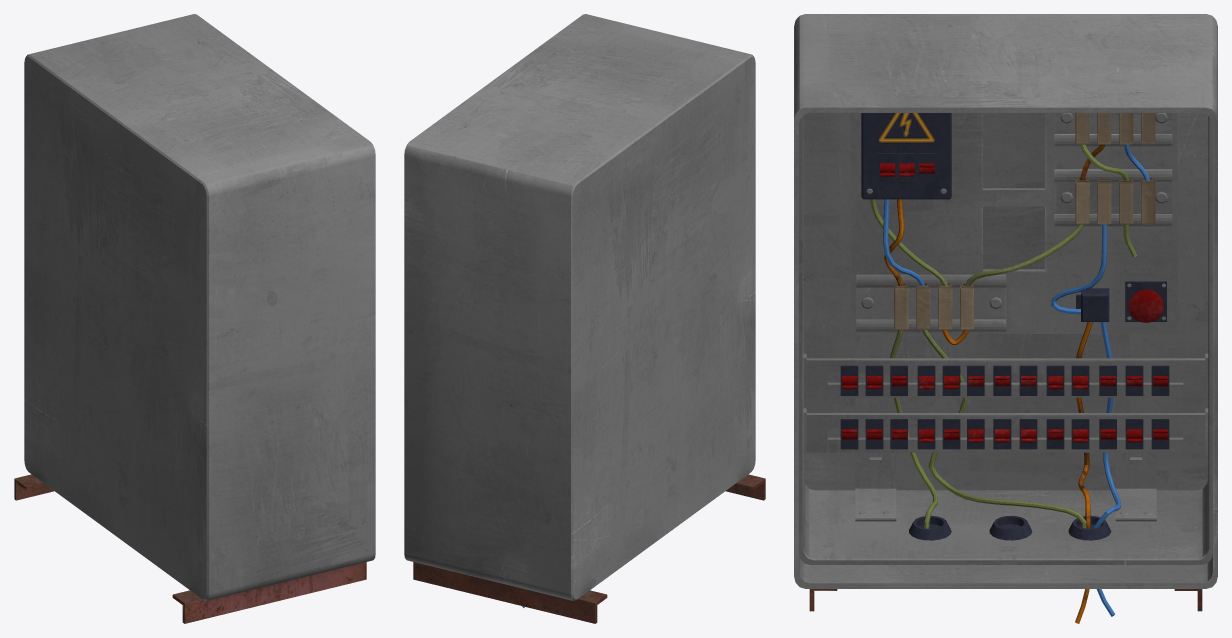
File: SmallFuseBox.gltf
3 views of the same model, side by side, from view 1: azimuth 30°, elevation 25°; view 2: azimuth 150°, elevation 25°; view 3: azimuth 270°, elevation 25° (orthographic). The views are drawn at different scales.
Parts seen in each view (by area): view 1: Fuse; view 2: Fuse; view 3: Fuse.
Part boxes in pixels (left/top/right/bottom): Fuse: left=14, top=14, right=375, bottom=623; Fuse: left=404, top=14, right=765, bottom=623; Fuse: left=794, top=14, right=1217, bottom=623.
Size of the model in its own units: 22.59 by 56.9 by 39.07.
1 material, 1 textured.
